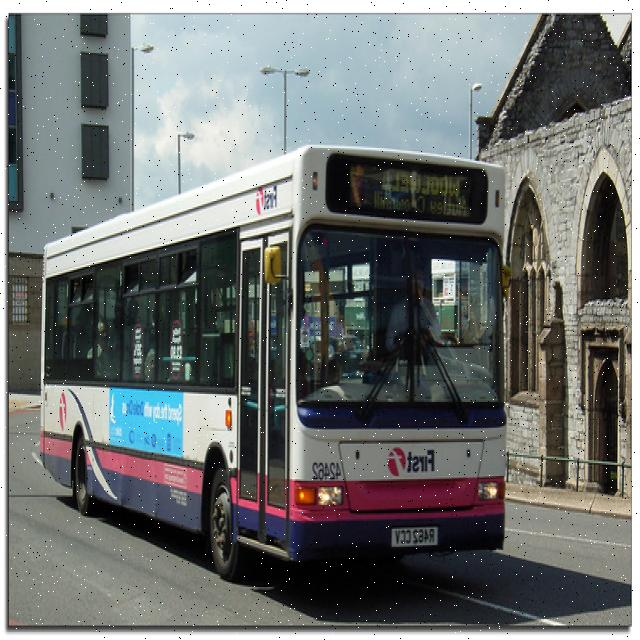Bus: (38, 146, 509, 574), (262, 66, 308, 153)
